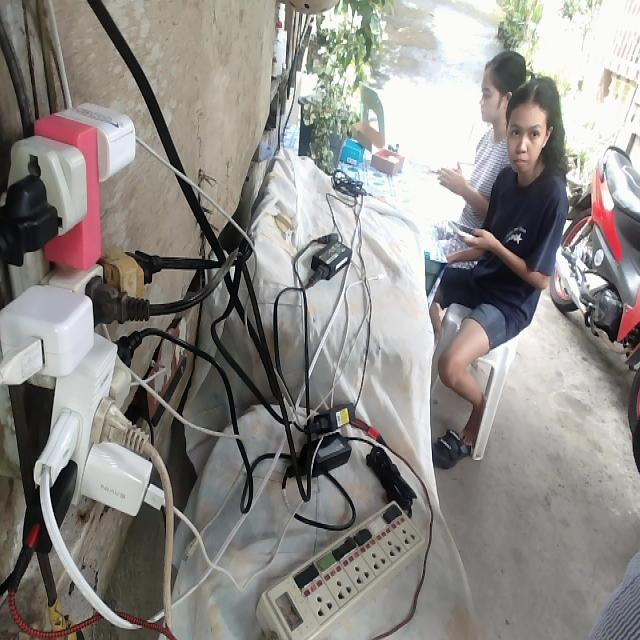-: (6, 81, 162, 571)
